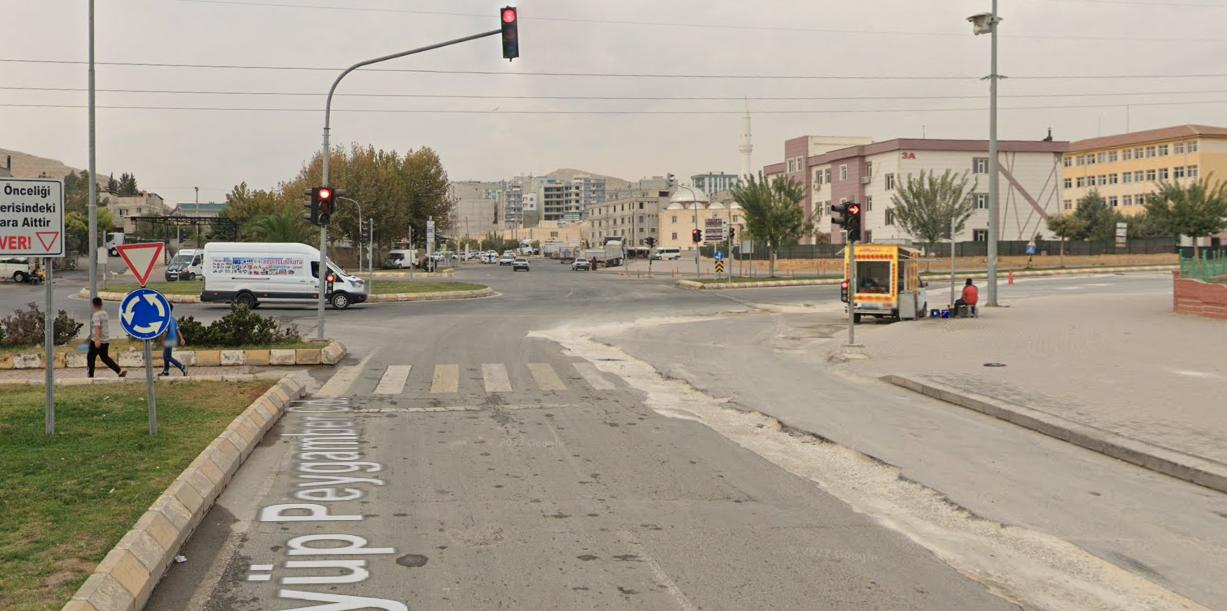crossroads: (121, 293, 172, 337)
redlight: (497, 6, 520, 61), (309, 187, 336, 226), (844, 203, 867, 244)
